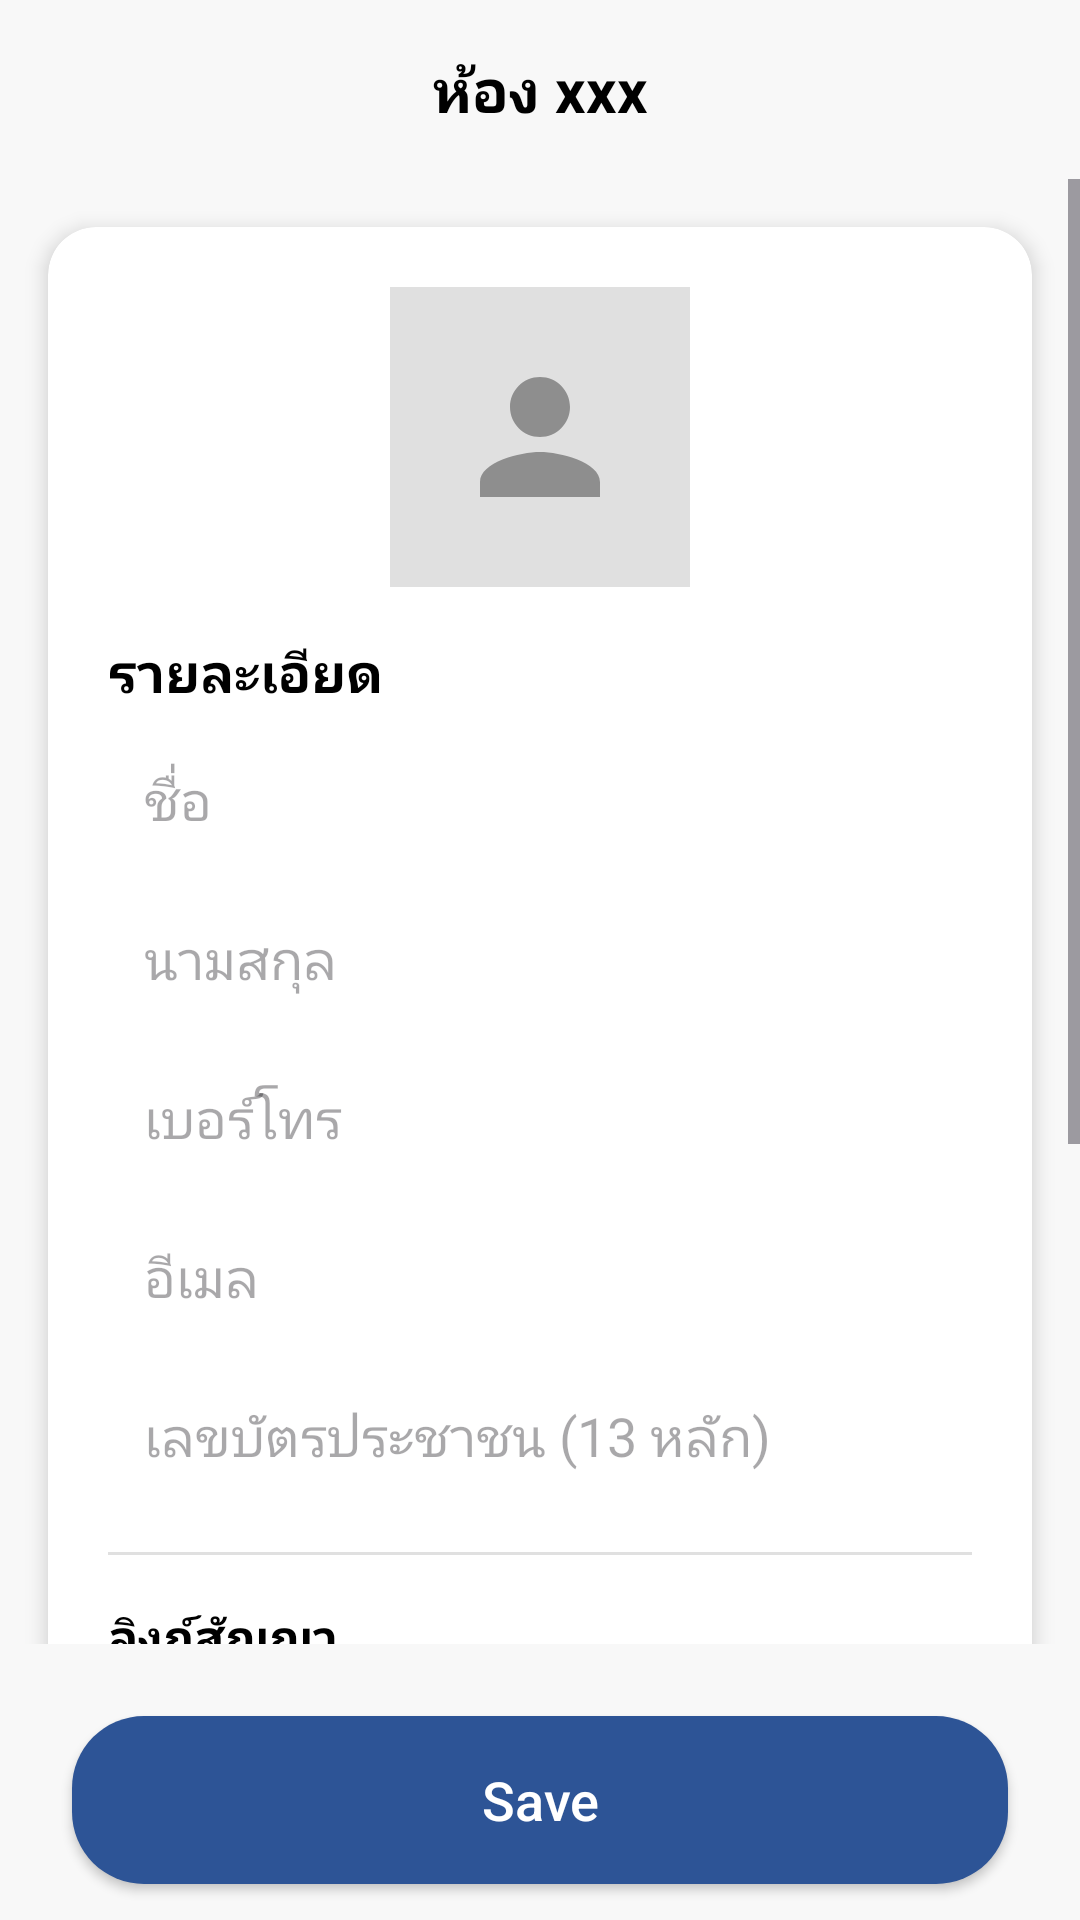

Named icons in this screenshot (1080*1920) and their bounding boxes, (x1, y1, x2, y2):
person: (390, 287, 690, 587)
